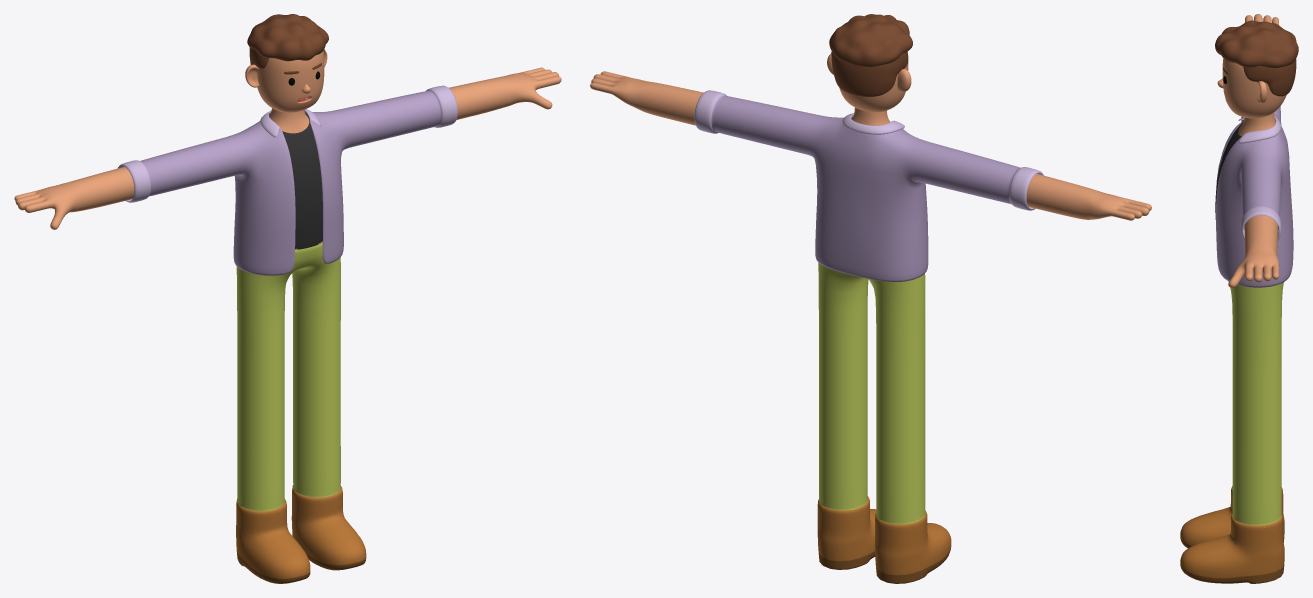
The model's file is BOY 11.fbx.
The picture shows the model from 3 angles, left to right: view 1: azimuth 30°, elevation 25°; view 2: azimuth 150°, elevation 25°; view 3: azimuth 270°, elevation 25°; orthographic projection. The views are drawn at different scales.
Parts seen in each view (by area): view 1: BOY 11_PANTS, BOY 11_SHIRT, BOY_BODY.011, BOY_11_SHOES.R, BOY_11_SHOES.L, BOY 11_SHIRT.001, BOY 11_HAIR; view 2: BOY 11_SHIRT, BOY 11_PANTS, BOY_BODY.011, BOY 11_HAIR, BOY_11_SHOES.R, BOY_11_SHOES.L; view 3: BOY 11_PANTS, BOY 11_SHIRT, BOY_BODY.011, BOY_11_SHOES.L, BOY 11_HAIR, BOY_11_SHOES.R, BOY 11_SHIRT.001.
Part boxes in pixels (left/top/right/bottom): BOY 11_PANTS: left=236, top=243, right=340, bottom=511; BOY 11_SHIRT: left=117, top=85, right=457, bottom=275; BOY_BODY.011: left=14, top=49, right=561, bottom=249; BOY_11_SHOES.R: left=236, top=499, right=310, bottom=583; BOY_11_SHOES.L: left=291, top=485, right=366, bottom=570; BOY 11_SHIRT.001: left=282, top=112, right=322, bottom=249; BOY 11_HAIR: left=247, top=14, right=328, bottom=68; BOY 11_SHIRT: left=694, top=90, right=1043, bottom=281; BOY 11_PANTS: left=818, top=263, right=925, bottom=524; BOY_BODY.011: left=590, top=53, right=1151, bottom=220; BOY 11_HAIR: left=829, top=14, right=912, bottom=96; BOY_11_SHOES.R: left=875, top=510, right=951, bottom=583; BOY_11_SHOES.L: left=817, top=496, right=876, bottom=569; BOY 11_PANTS: left=1228, top=281, right=1283, bottom=527; BOY 11_SHIRT: left=1216, top=106, right=1293, bottom=287; BOY_BODY.011: left=1217, top=14, right=1286, bottom=288; BOY_11_SHOES.L: left=1180, top=513, right=1284, bottom=583; BOY 11_HAIR: left=1215, top=20, right=1298, bottom=96; BOY_11_SHOES.R: left=1180, top=486, right=1284, bottom=548; BOY 11_SHIRT.001: left=1215, top=120, right=1275, bottom=219.
Size of the model in its own units: 205 by 193 by 38.85.
Materials: 10 (7 with a texture image).
